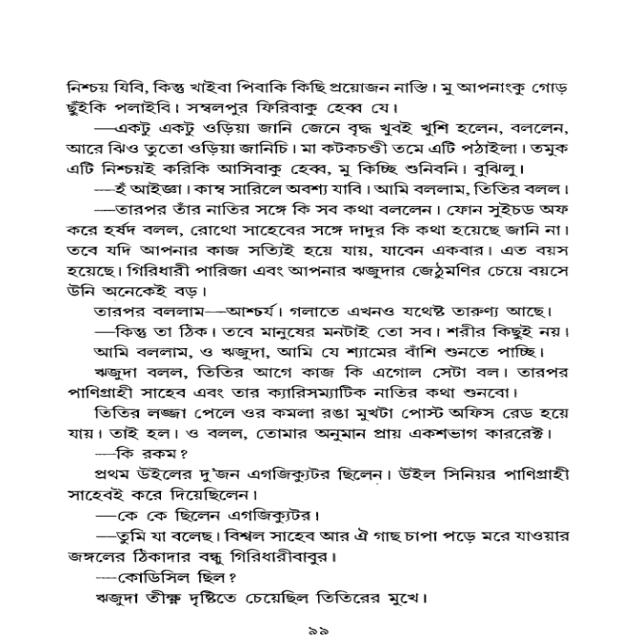page number: (299, 622, 338, 640)
paragraph: (58, 200, 576, 301), (55, 117, 571, 178), (59, 402, 582, 443), (54, 77, 575, 117), (63, 526, 578, 566), (62, 464, 575, 504), (65, 363, 576, 399), (80, 342, 548, 361), (80, 302, 556, 320), (100, 321, 571, 339), (103, 179, 572, 197), (87, 587, 435, 607), (98, 505, 322, 526), (104, 569, 239, 586), (106, 445, 188, 462)
